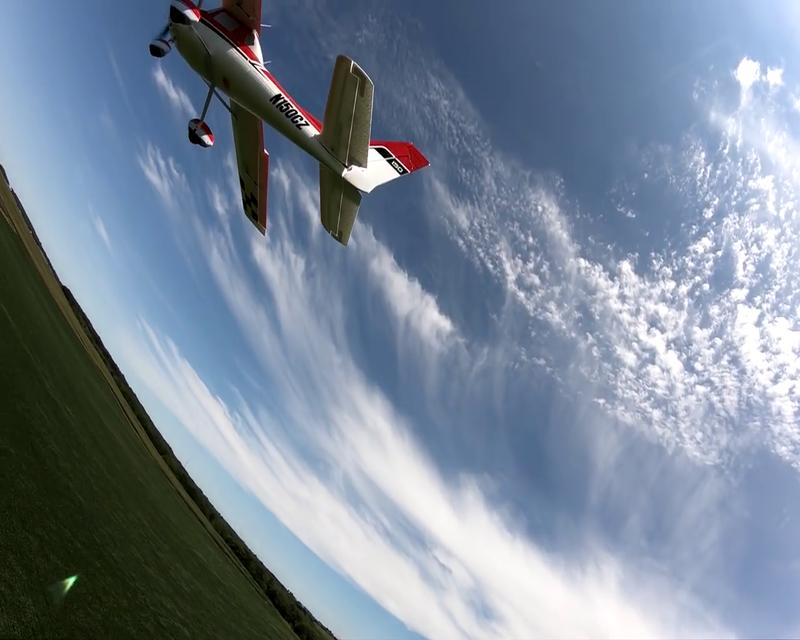UAV: (147, 0, 431, 246)
